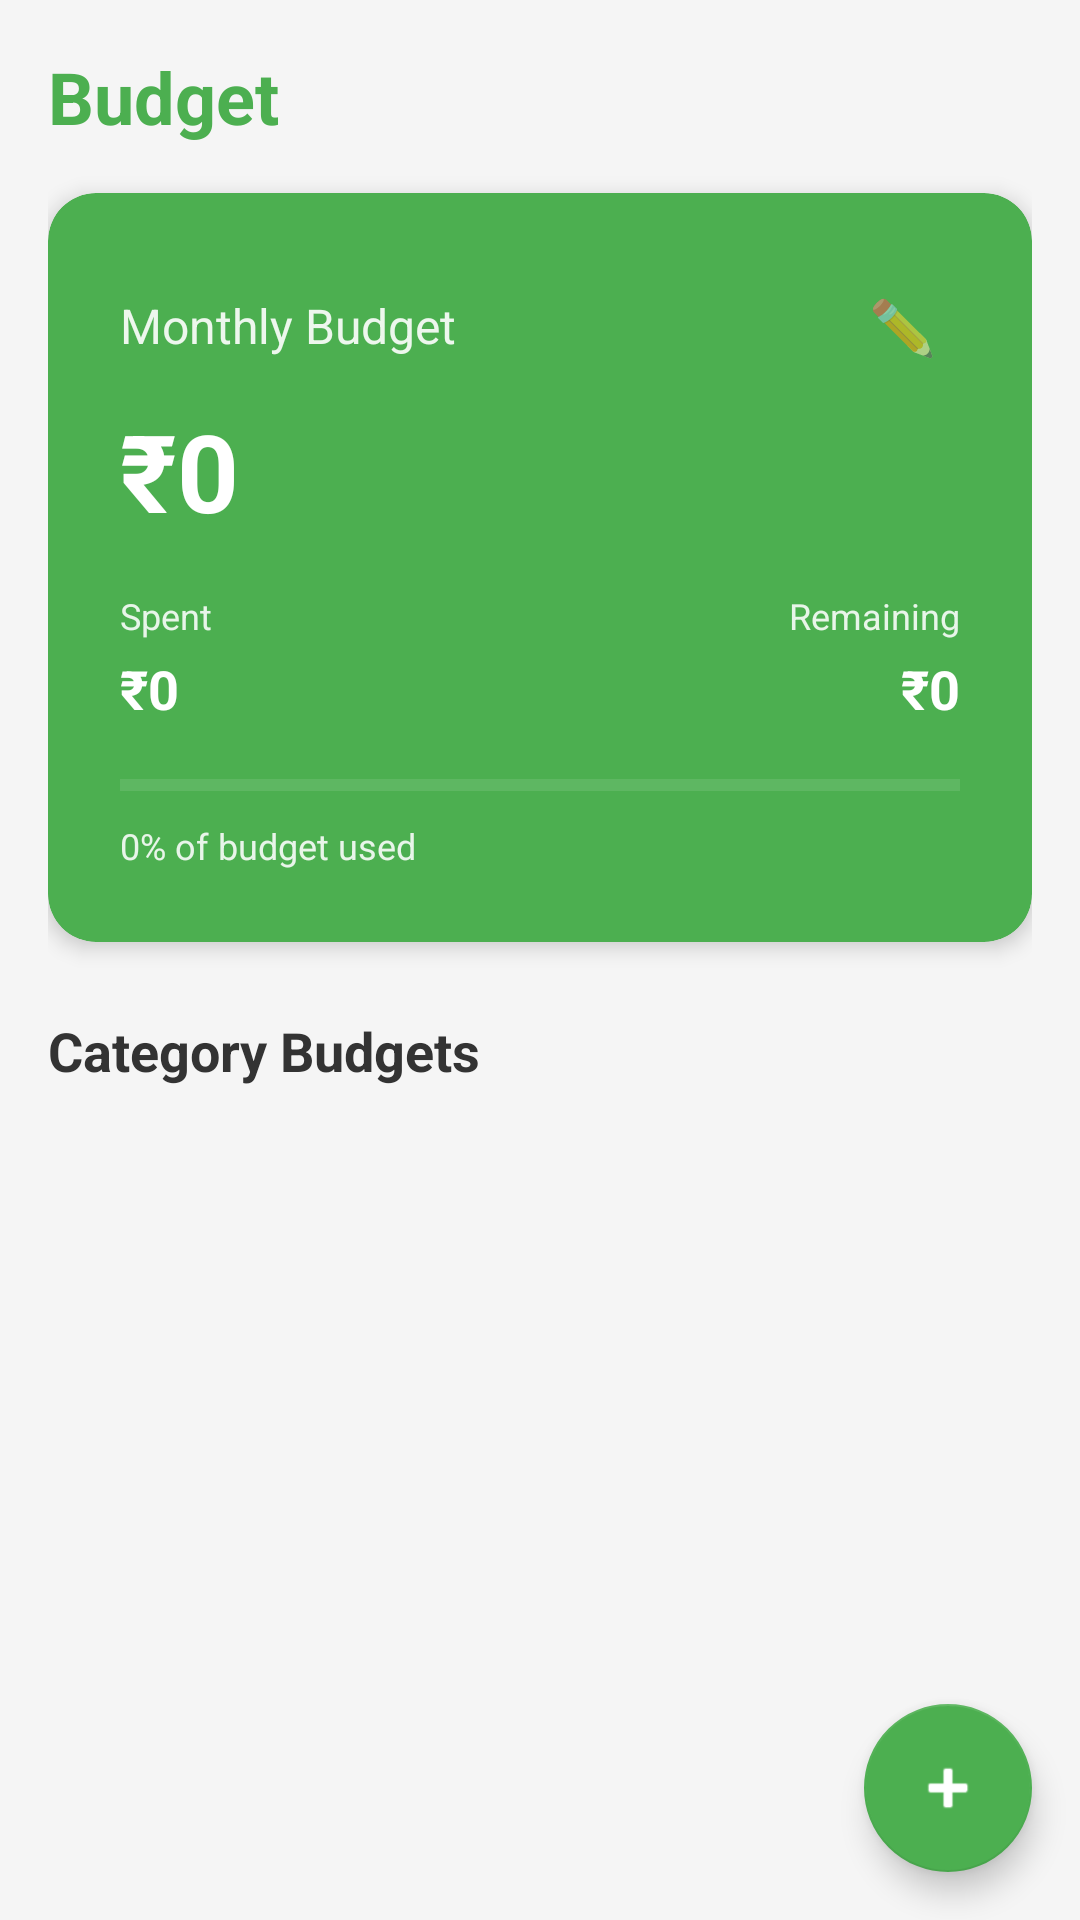

Icons on this 1080px x 1920px Android screen, each with its box as (x1, y1, x2, y2):
Add Budget: (864, 1704, 1032, 1872)
